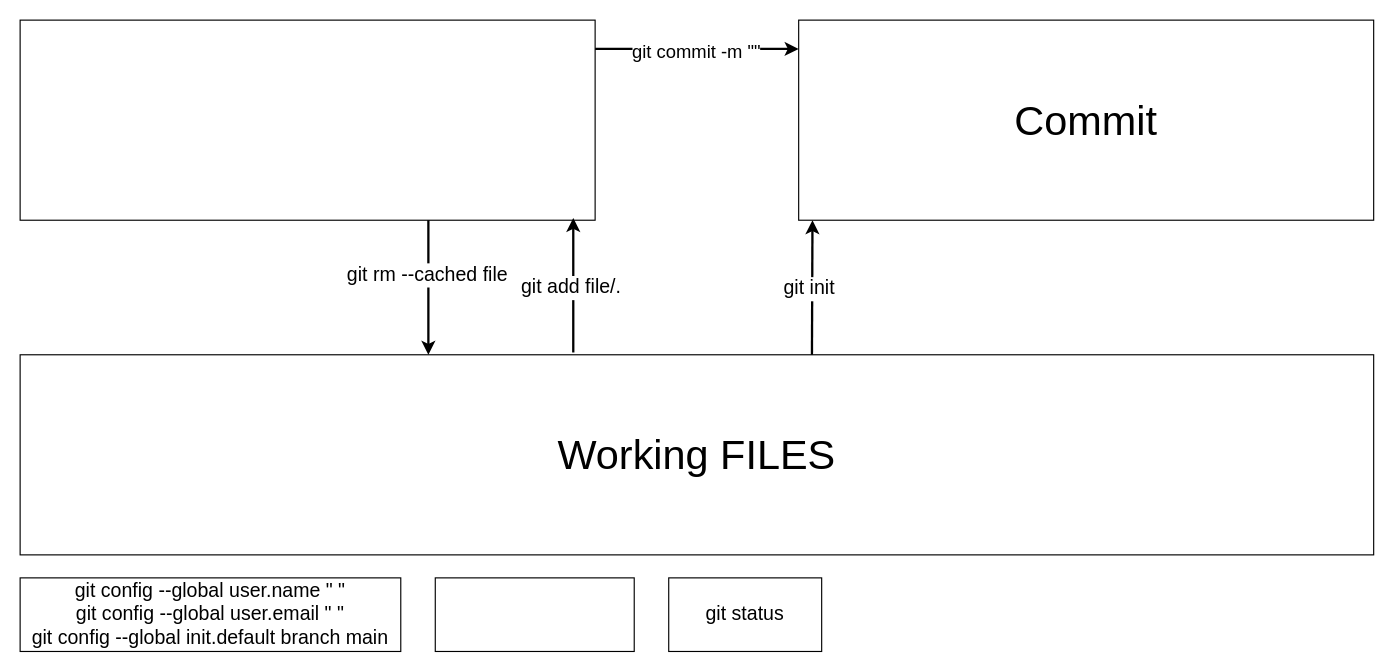
The diagram is 1394 pixels wide and 672 high, and some of its shapes have lost their labels. The shapes that lost their labels are listed below. From the top down, each one's box as (x1, y1, x2, y2) in pixels, then its label:
(19, 19, 595, 220): Staging
(434, 577, 634, 651): git help log/config
